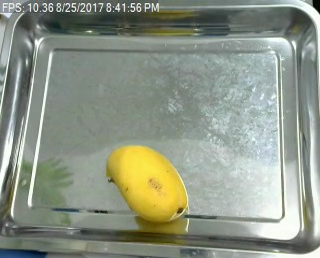Mango: (106, 141, 190, 230)
